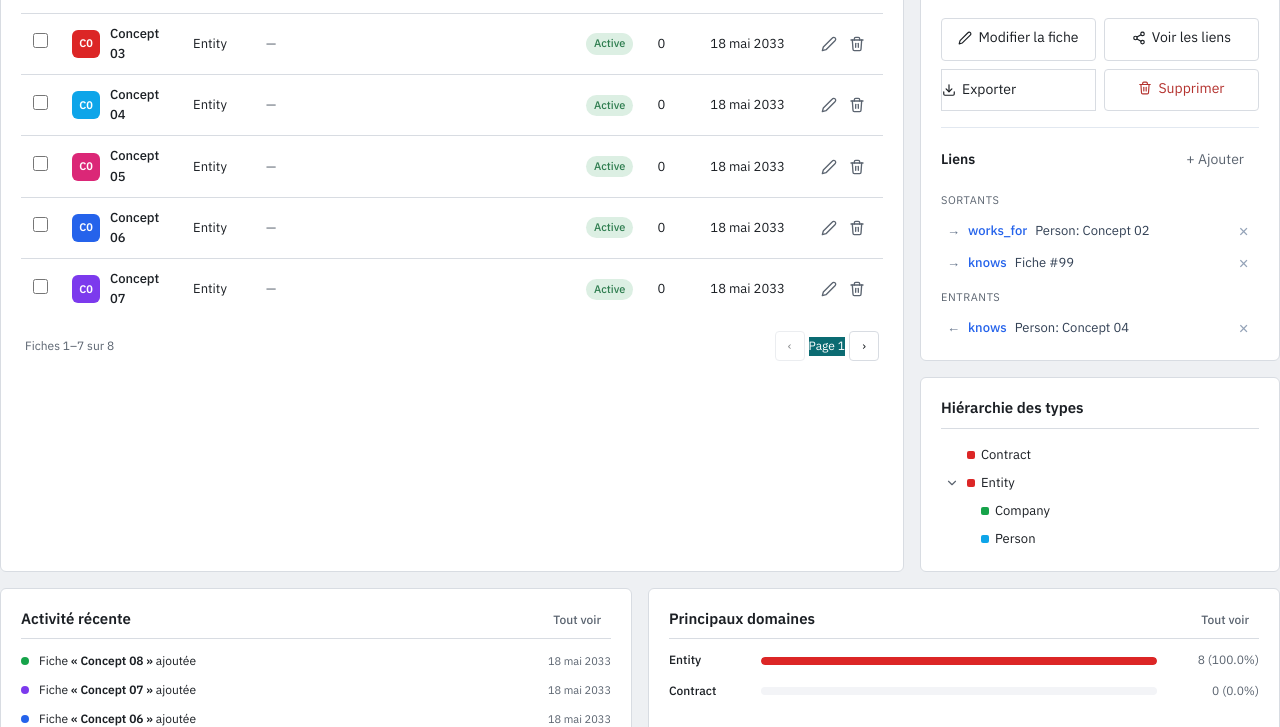
Concepts page — library list › steps back when the current page empties under it
(page scrolled)
What coordinates should you click on to do the following:
click the button named "Page suivante"
I would click on:
 (864, 346)
Its box is [849, 331, 879, 361].
(page scrolled)
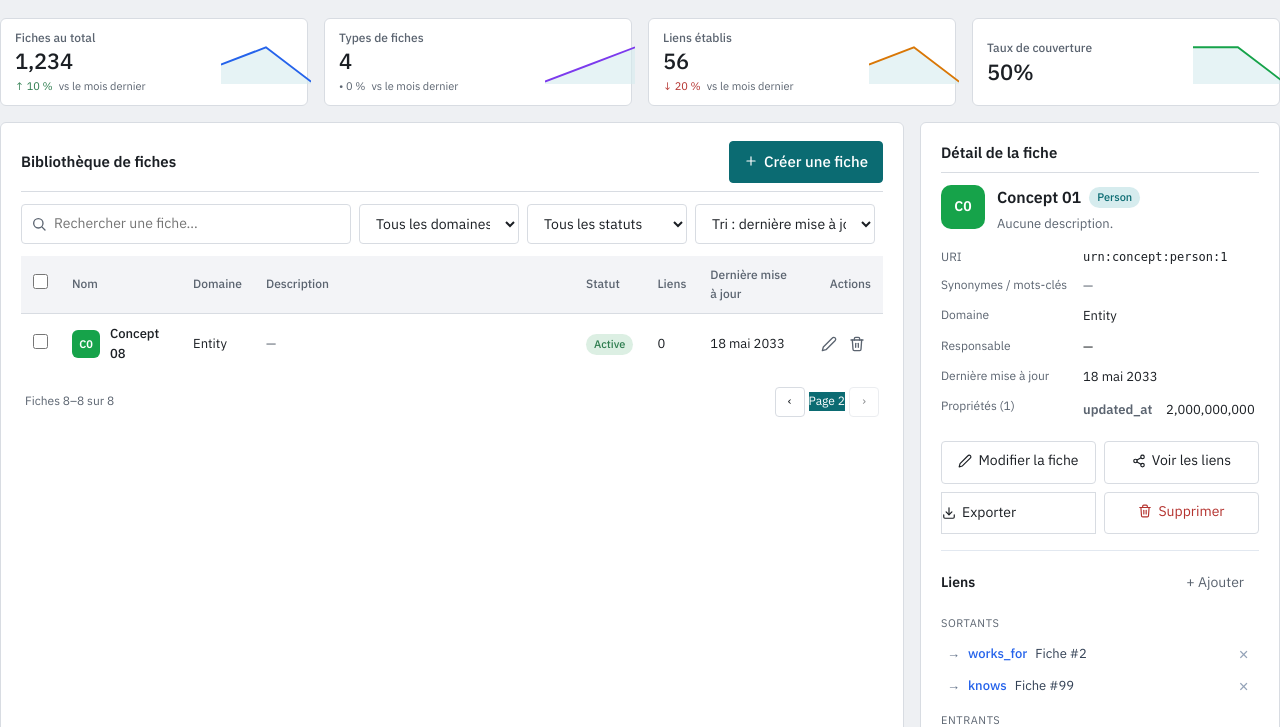
Expected: the text "Fiches 8–8 sur 8" is shown, [25, 392, 114, 411]
What coordinates should you click on to do the following:
click the button named "Supprimer la fiche Concept 08"
I would click on:
 (857, 344)
Its box is [843, 330, 871, 358].
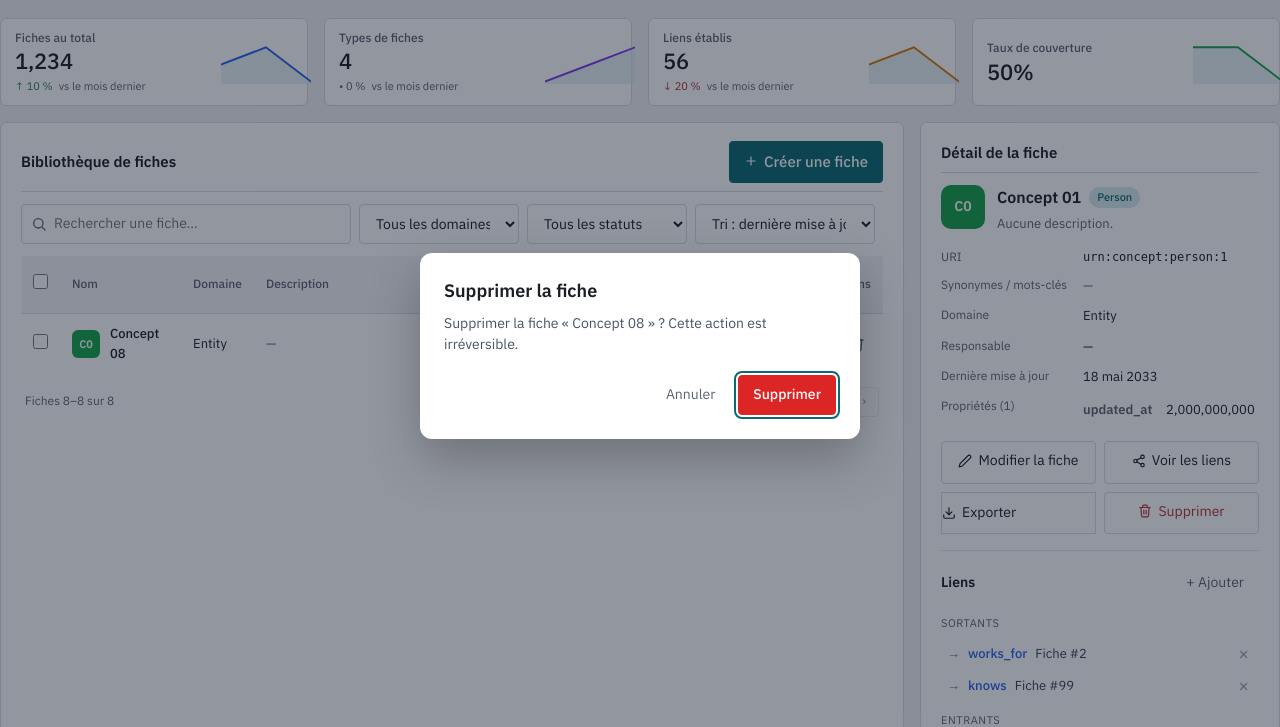
What coordinates should you click on to do the following:
click the button "Supprimer"
I would click on:
 (787, 395)
Its box is [738, 375, 836, 415].
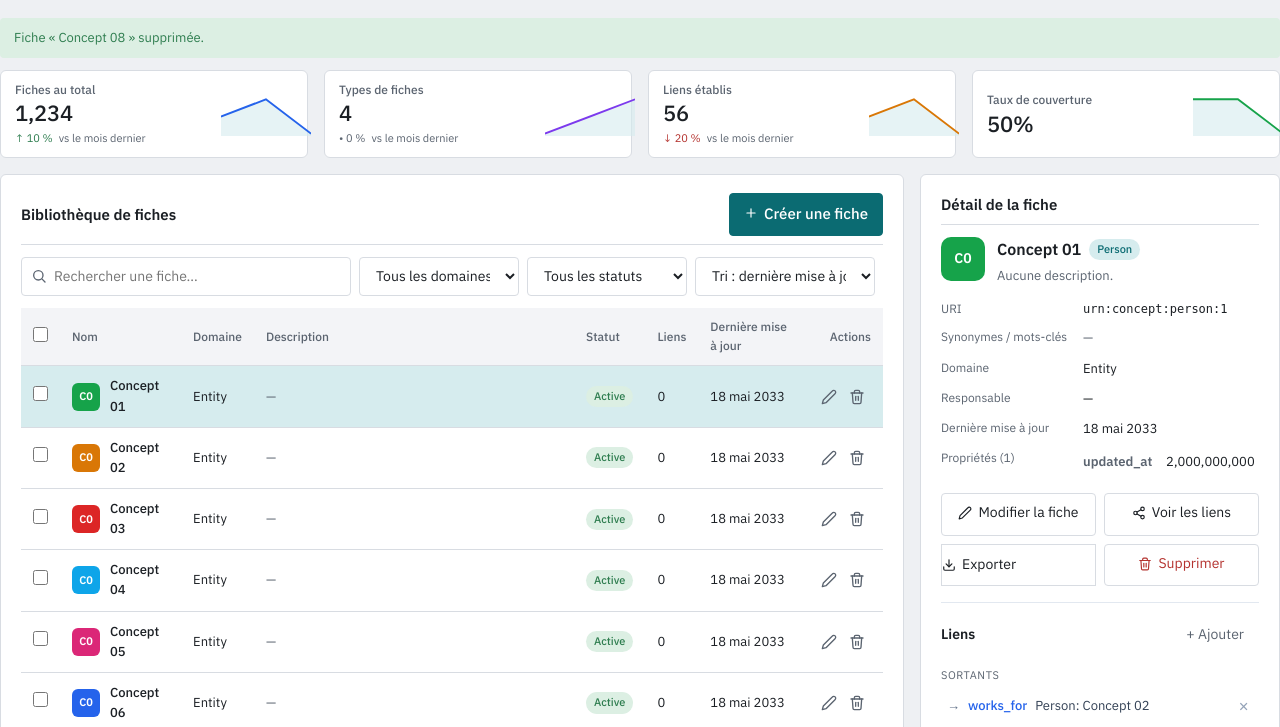
Expected: the text "Concept 01" is shown, [110, 378, 159, 415]
